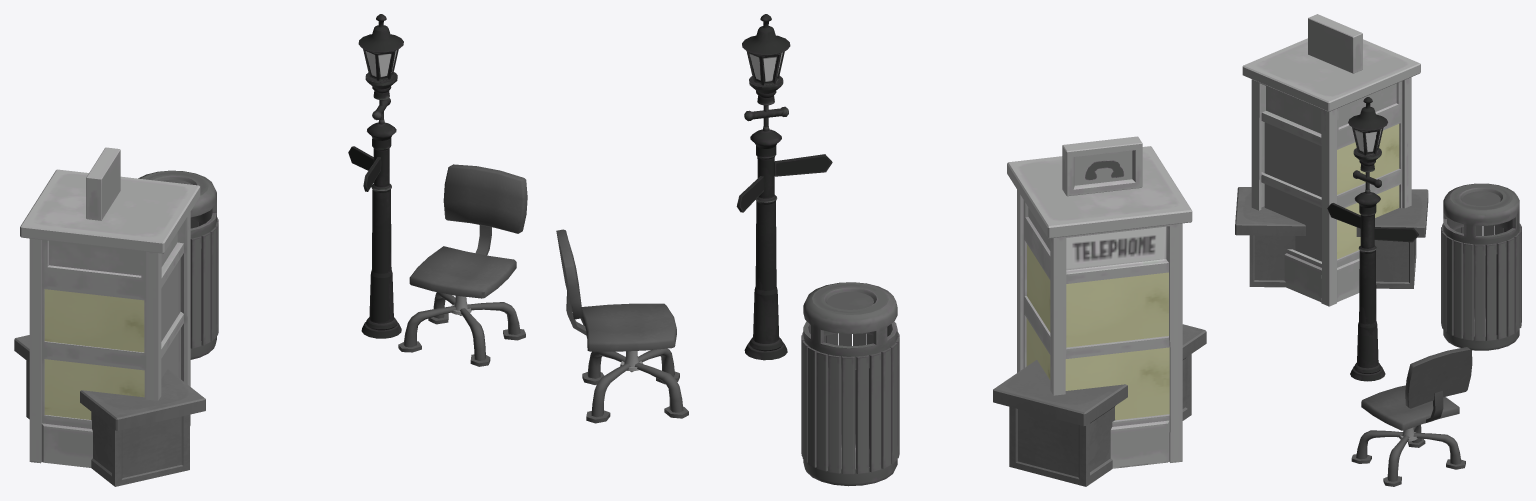
The model's file is GameObject.fbx.
3 views of the same model, side by side, from view 1: azimuth 30°, elevation 25°; view 2: azimuth 150°, elevation 25°; view 3: azimuth 270°, elevation 25° (orthographic). The views are drawn at different scales.
Parts seen in each view (by area): view 1: Throw_PhoneBooth (1), Throw_Chair, Throw_streetlamp, desk12, telephoneBuild7, Throw_Desk, telephoneBuild6, telephoneBuild1, thrashCanPart20, thrashCanPart7, thrashCanPart8, telephoneBuild8 (+1 smaller); view 2: Throw_PhoneBooth (1), Throw_streetlamp, Throw_Chair, telephoneBuild2, desk10, thrashCanPart20, telephoneBuild3, Throw_Desk, telephoneBuild1, thrashCanPart18, thrashCanPart19, wood (+9 smaller); view 3: Throw_PhoneBooth (1), Throw_Chair, Throw_streetlamp, thrashCanPart20, Throw_Desk, telephoneBuild8, telephoneBuild1, telephoneBuild9, desk12, telephoneBuild5, desk10, telephoneBuild4 (+10 smaller).
Part boxes in pixels (<box>): Throw_PhoneBooth (1): <box>20,169,200,467</box>; Throw_Chair: <box>398,164,527,366</box>; Throw_streetlamp: <box>348,14,403,338</box>; desk12: <box>91,412,189,486</box>; telephoneBuild7: <box>44,289,144,352</box>; Throw_Desk: <box>14,335,205,430</box>; telephoneBuild6: <box>44,359,144,419</box>; telephoneBuild1: <box>86,147,120,220</box>; thrashCanPart20: <box>138,170,216,248</box>; thrashCanPart7: <box>190,236,201,348</box>; thrashCanPart8: <box>201,232,210,345</box>; telephoneBuild8: <box>161,261,178,341</box>; Throw_PhoneBooth (1): <box>1007,146,1192,468</box>; Throw_streetlamp: <box>736,14,832,360</box>; Throw_Chair: <box>556,229,688,423</box>; telephoneBuild2: <box>1066,272,1168,347</box>; desk10: <box>1009,406,1114,486</box>; thrashCanPart20: <box>803,282,897,369</box>; telephoneBuild3: <box>1065,347,1169,420</box>; Throw_Desk: <box>993,324,1206,425</box>; telephoneBuild1: <box>1062,136,1142,196</box>; thrashCanPart18: <box>828,354,841,473</box>; thrashCanPart19: <box>842,356,854,474</box>; wood: <box>856,355,868,473</box>; Throw_PhoneBooth (1): <box>1242,38,1420,306</box>; Throw_Chair: <box>1351,347,1472,486</box>; Throw_streetlamp: <box>1327,97,1418,381</box>; thrashCanPart20: <box>1443,183,1519,255</box>; Throw_Desk: <box>1235,187,1428,237</box>; telephoneBuild8: <box>1264,122,1321,196</box>; telephoneBuild1: <box>1308,14,1362,73</box>; telephoneBuild9: <box>1264,184,1321,261</box>; desk12: <box>1249,235,1295,287</box>; telephoneBuild5: <box>1337,124,1399,194</box>; desk10: <box>1374,239,1416,288</box>; telephoneBuild4: <box>1337,185,1399,259</box>.
Size of the model in its own units: 17.11 by 10.91 by 8.81.
Materials: 5 (5 with a texture image).
